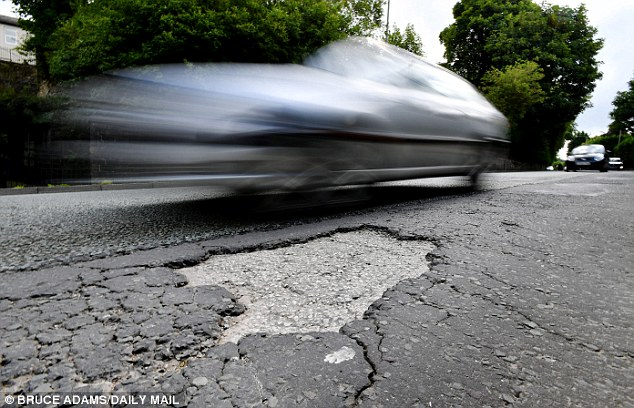pothole: (108, 215, 457, 338), (108, 247, 445, 338)
